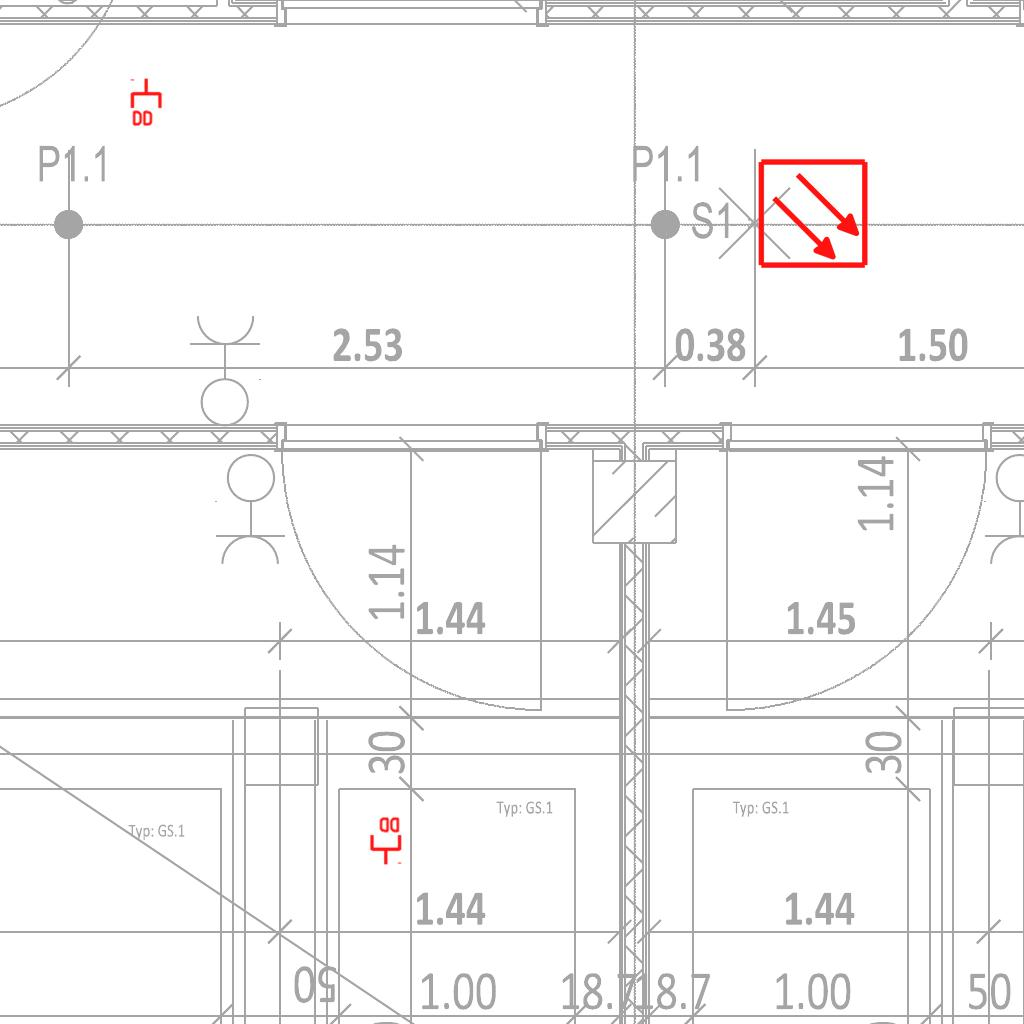Datenanschluss_zweifach: (130, 77, 164, 128), (368, 815, 402, 866)
RMO_Rauchmelder_optischer: (757, 157, 870, 270)
